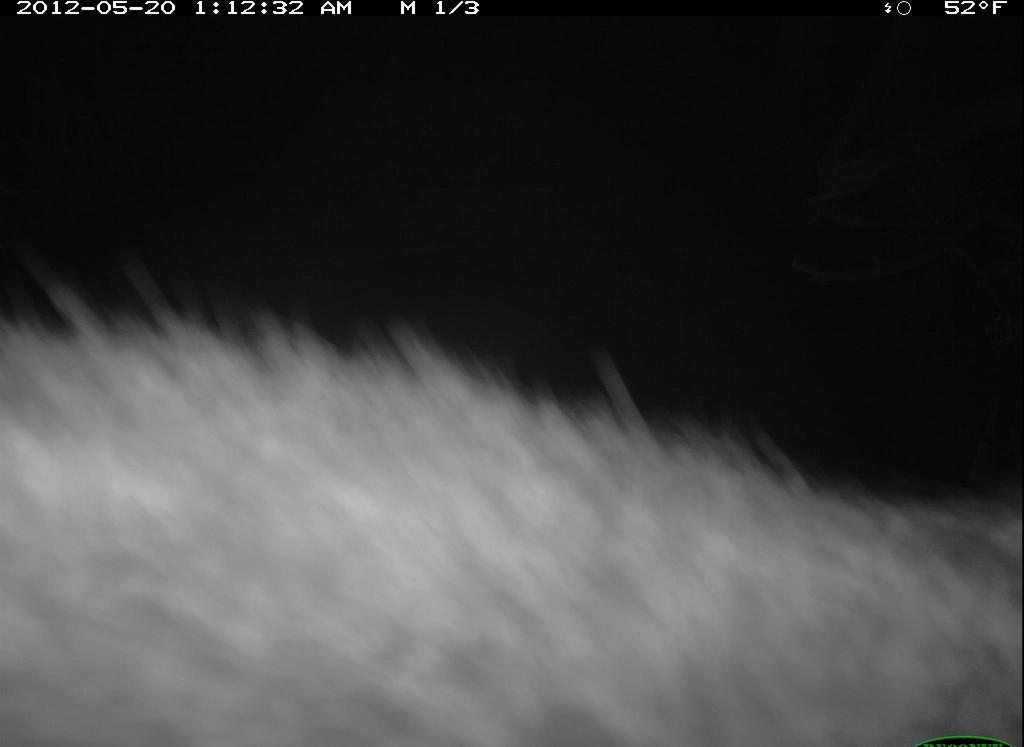raccoon: (3, 278, 1023, 747)
